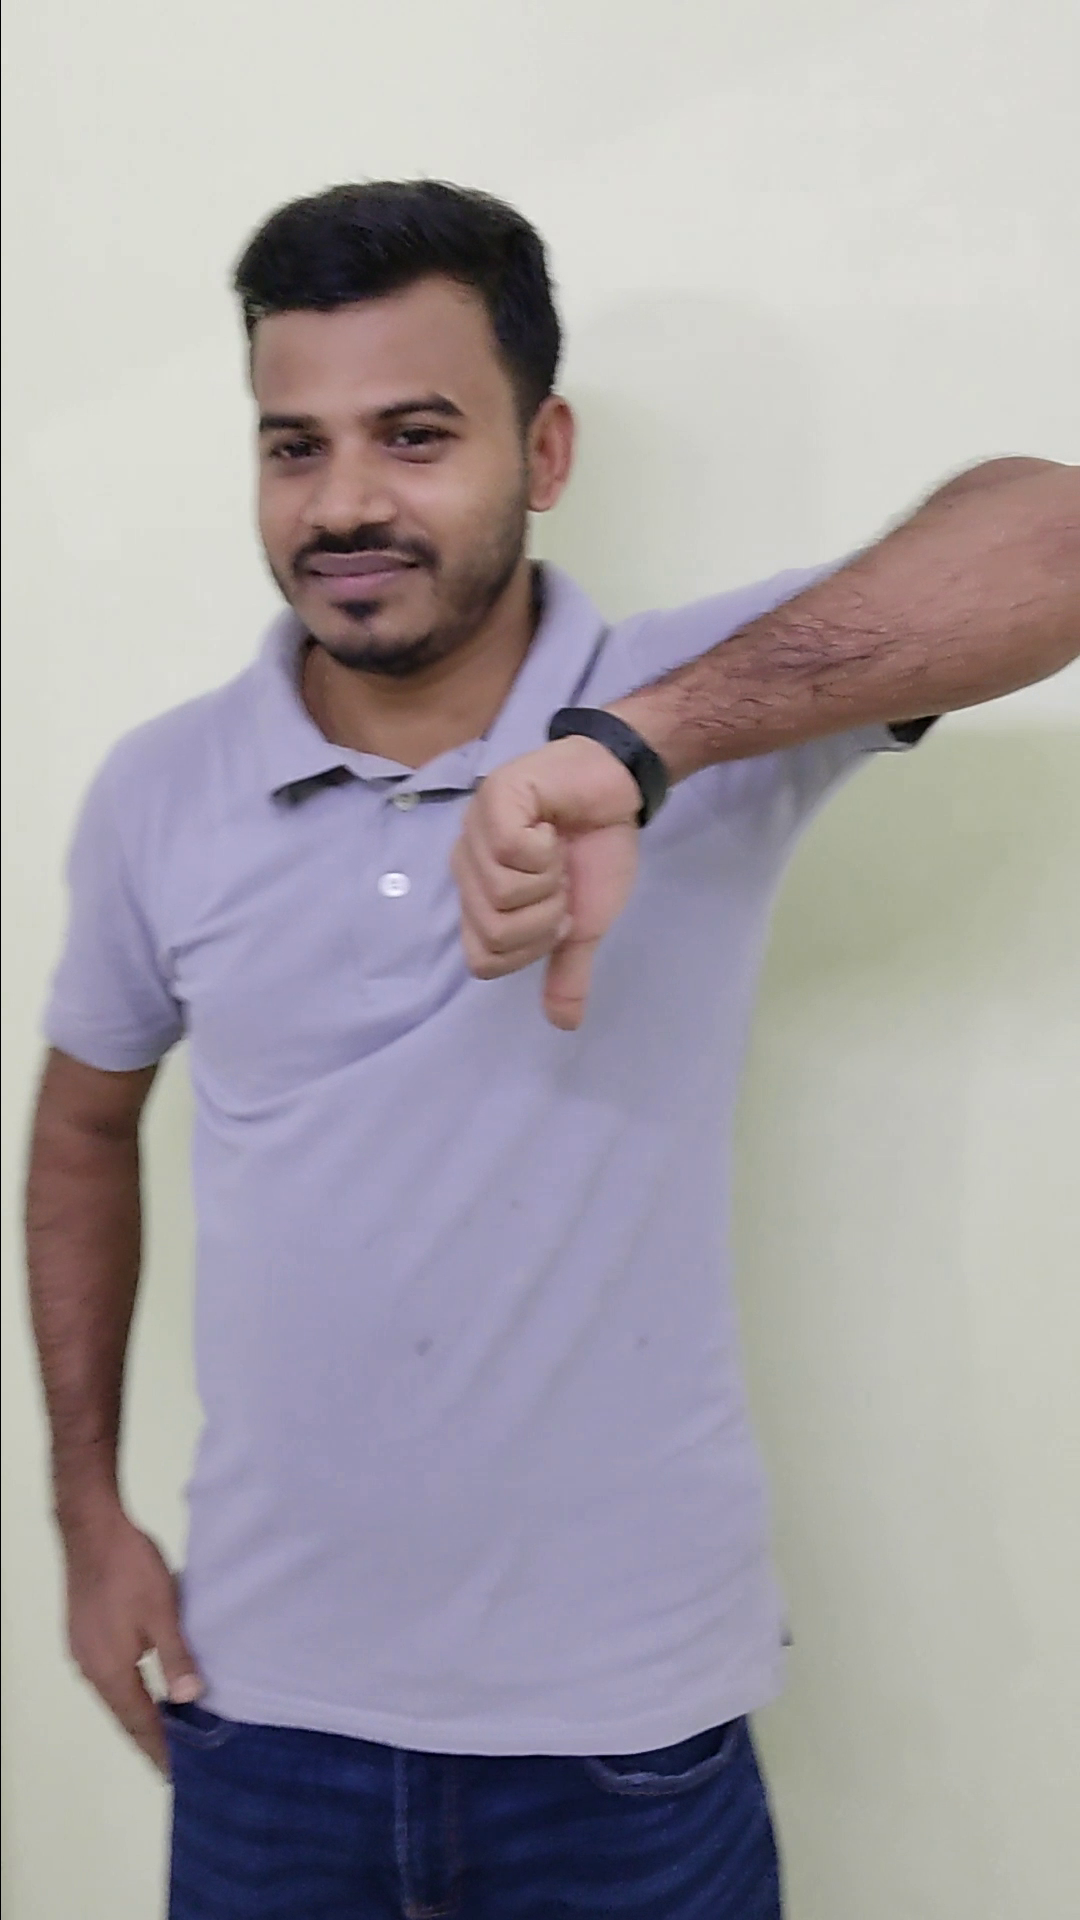Dislike: (433, 707, 655, 1044)
None: (51, 1490, 212, 1787)
